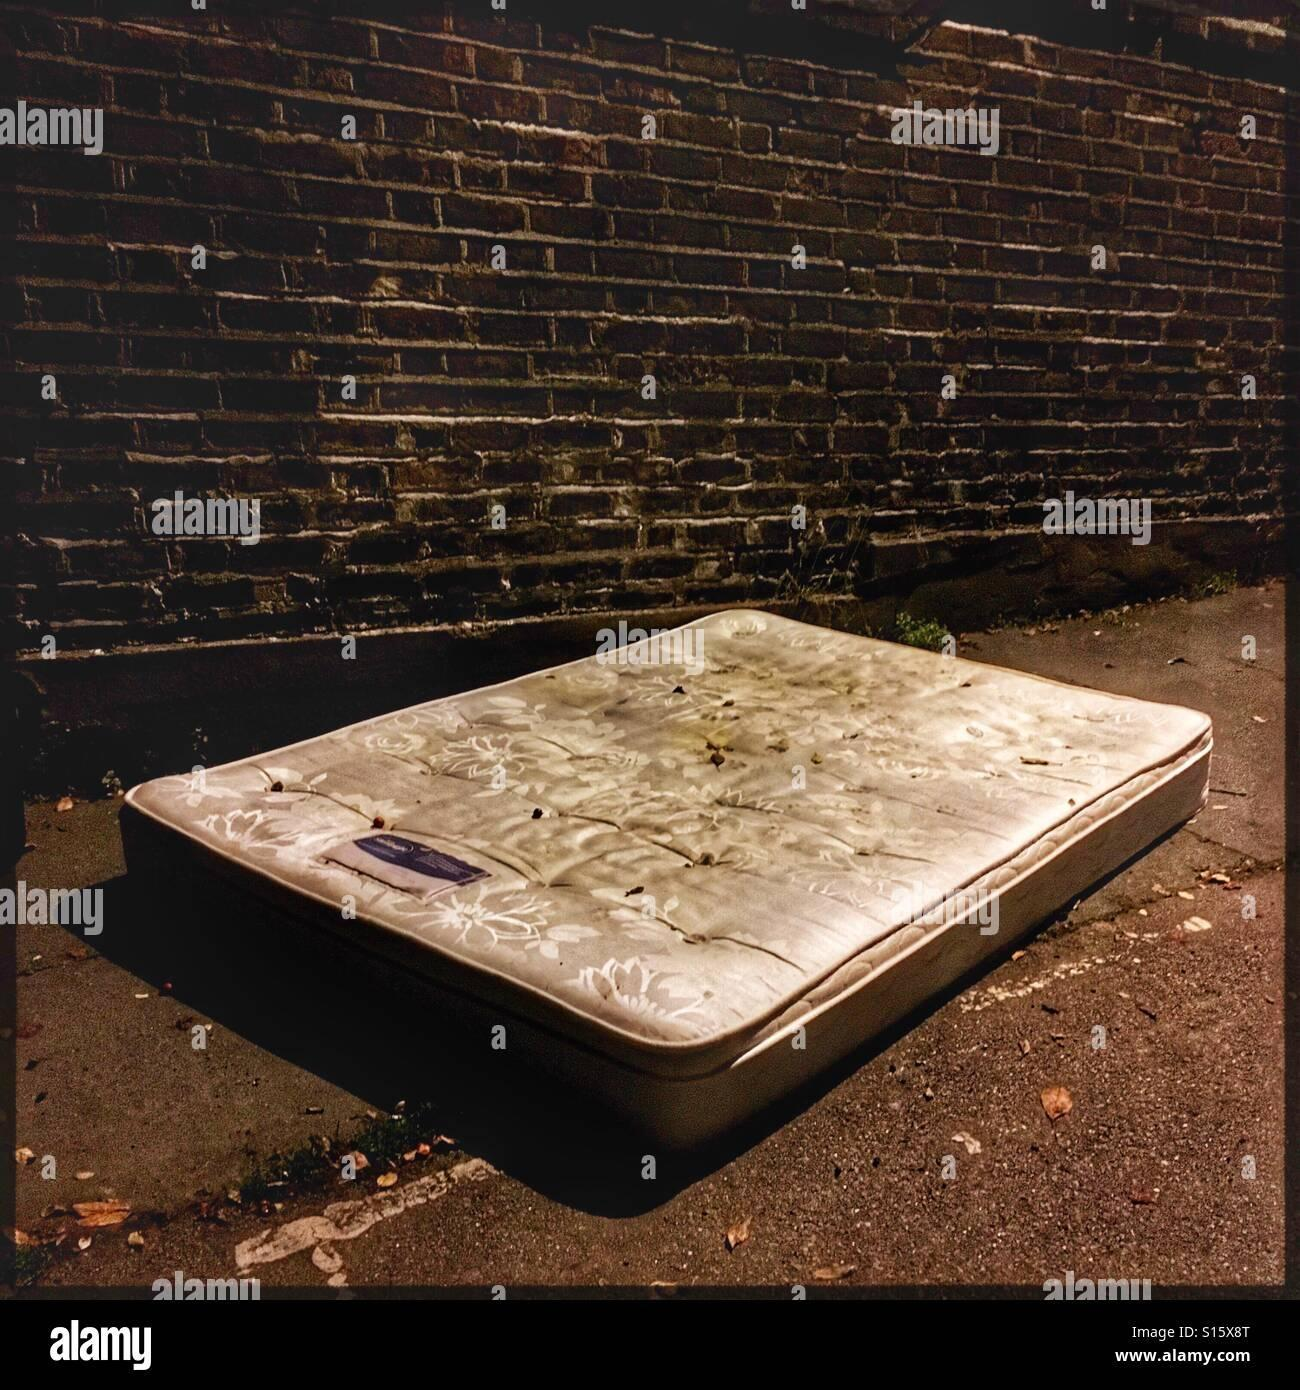Bed-Mattress: (92, 592, 1246, 1210)
